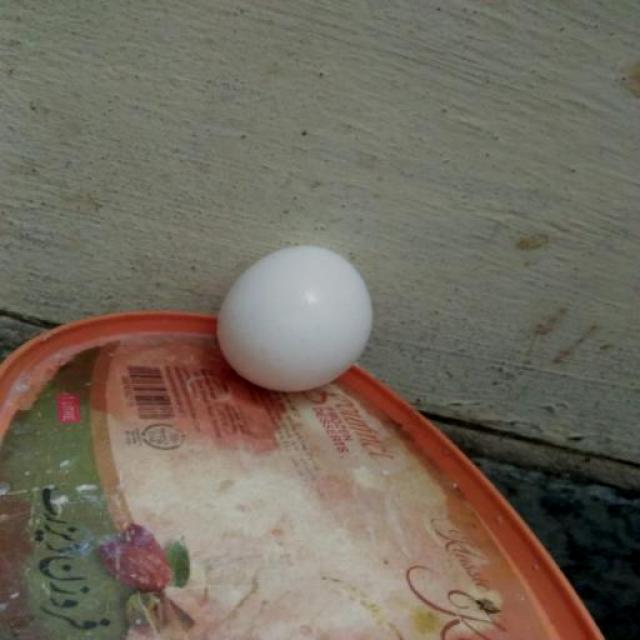telur: (219, 247, 373, 395)
